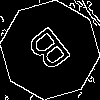B: (25, 25, 79, 81)
